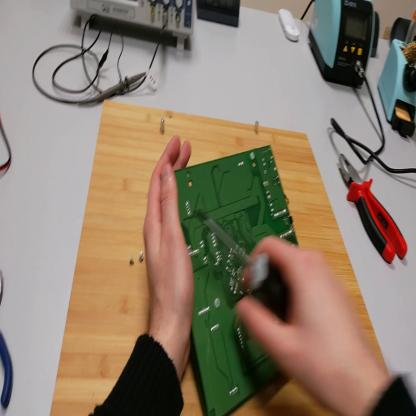hand: (236, 236, 375, 405), (142, 137, 197, 338)
low voltage board: (172, 147, 299, 415)
oscilloscope: (71, 2, 198, 54)
oscilloscope probe tip: (79, 72, 147, 106)
pliers: (339, 152, 408, 265), (2, 271, 15, 408)
screwdriver-: (198, 208, 294, 326)
socket: (392, 18, 415, 47), (371, 11, 381, 57)
welder base: (379, 4, 416, 140)
welder station: (310, 2, 375, 89)
working area: (50, 100, 390, 414)
